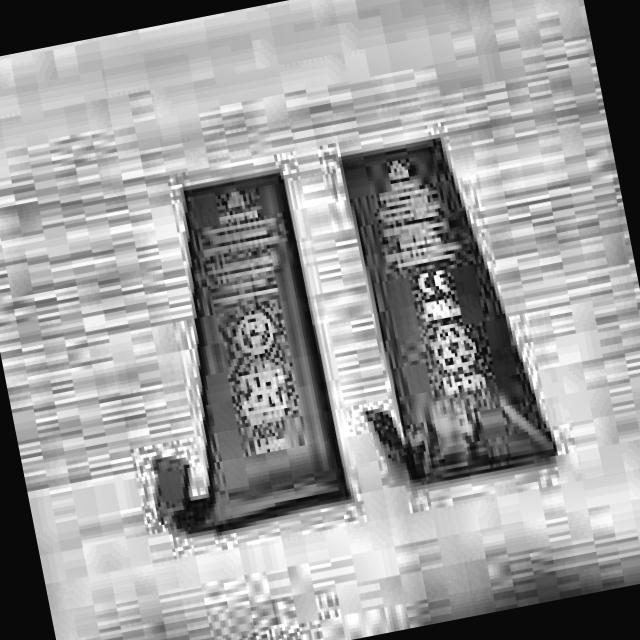Battery: (333, 116, 560, 493), (141, 158, 361, 534)
